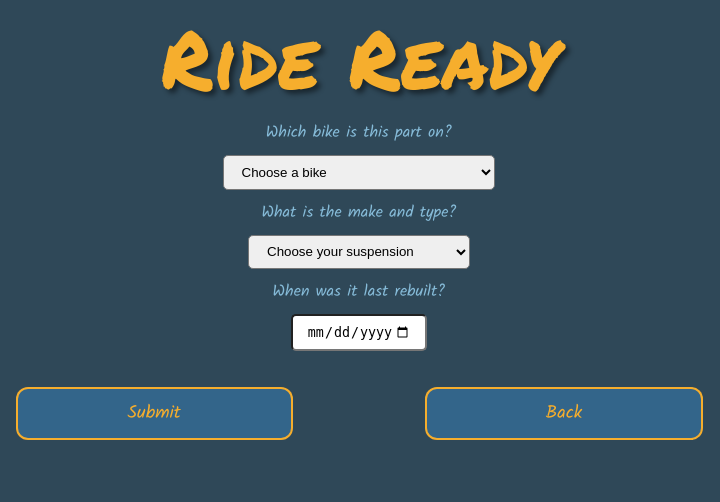
it: add-new-part › Should not allow a user to submit a new part without bike selected
Select "Fox Rear Coil Shock" in the 2nd dropdown named "suspensionSelect" at {"x": 359, "y": 252}, box x1=248 y1=235 x2=469 y2=269
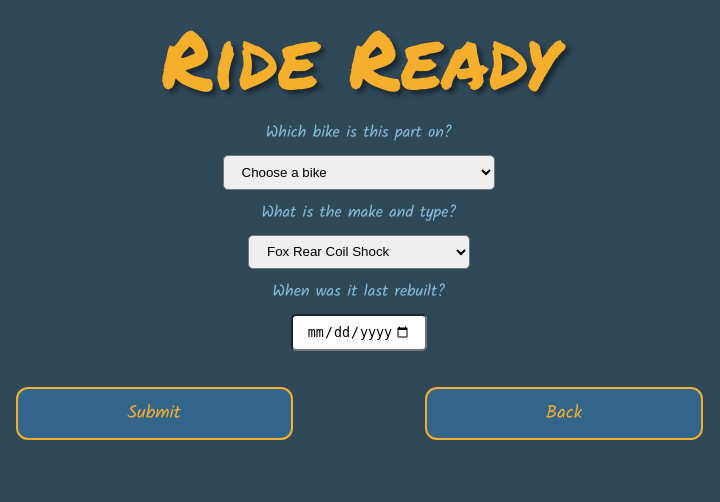
Type "2023-01-01" into the date field named "lastRebuild" at {"x": 359, "y": 333}, box x1=291 y1=314 x2=427 y2=351
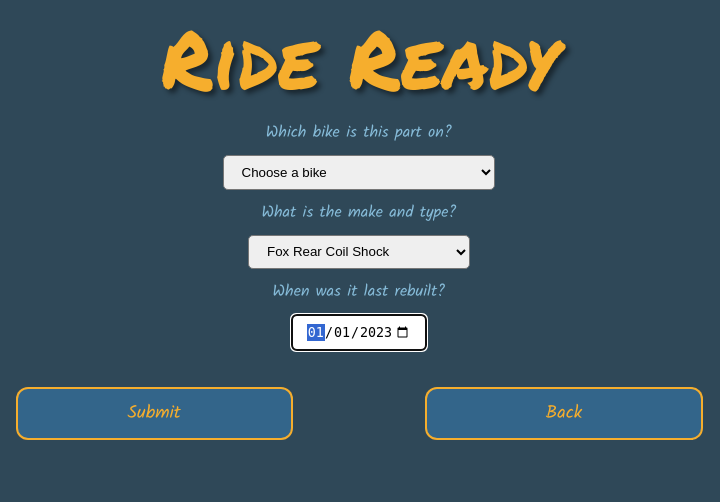
Click the button "Submit" at {"x": 155, "y": 414}, box x1=18 y1=389 x2=291 y2=438
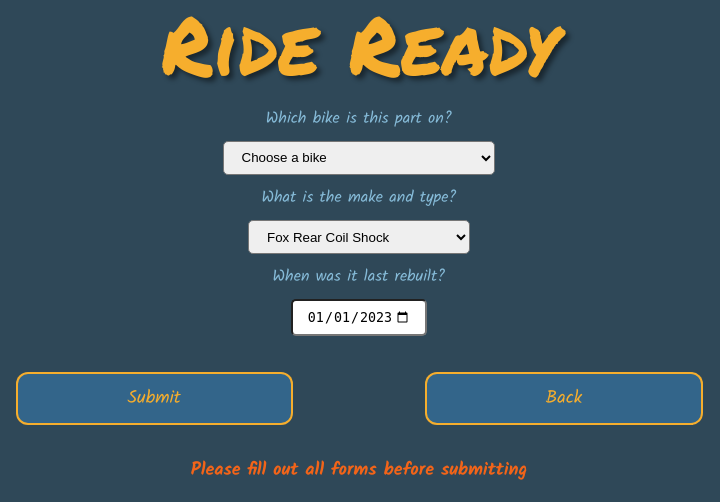
expect the text "Please fill out all forms before submitting" is shown: met, box x1=191 y1=456 x2=527 y2=485
